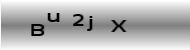2: (72, 13, 84, 28)
B: (30, 23, 44, 36)
X: (109, 18, 127, 33)
j: (86, 15, 94, 32)
u: (47, 12, 60, 23)
